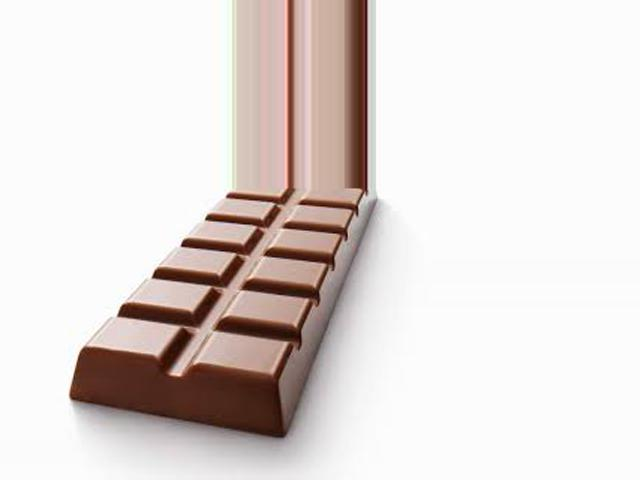chocolate: (66, 190, 394, 444)
